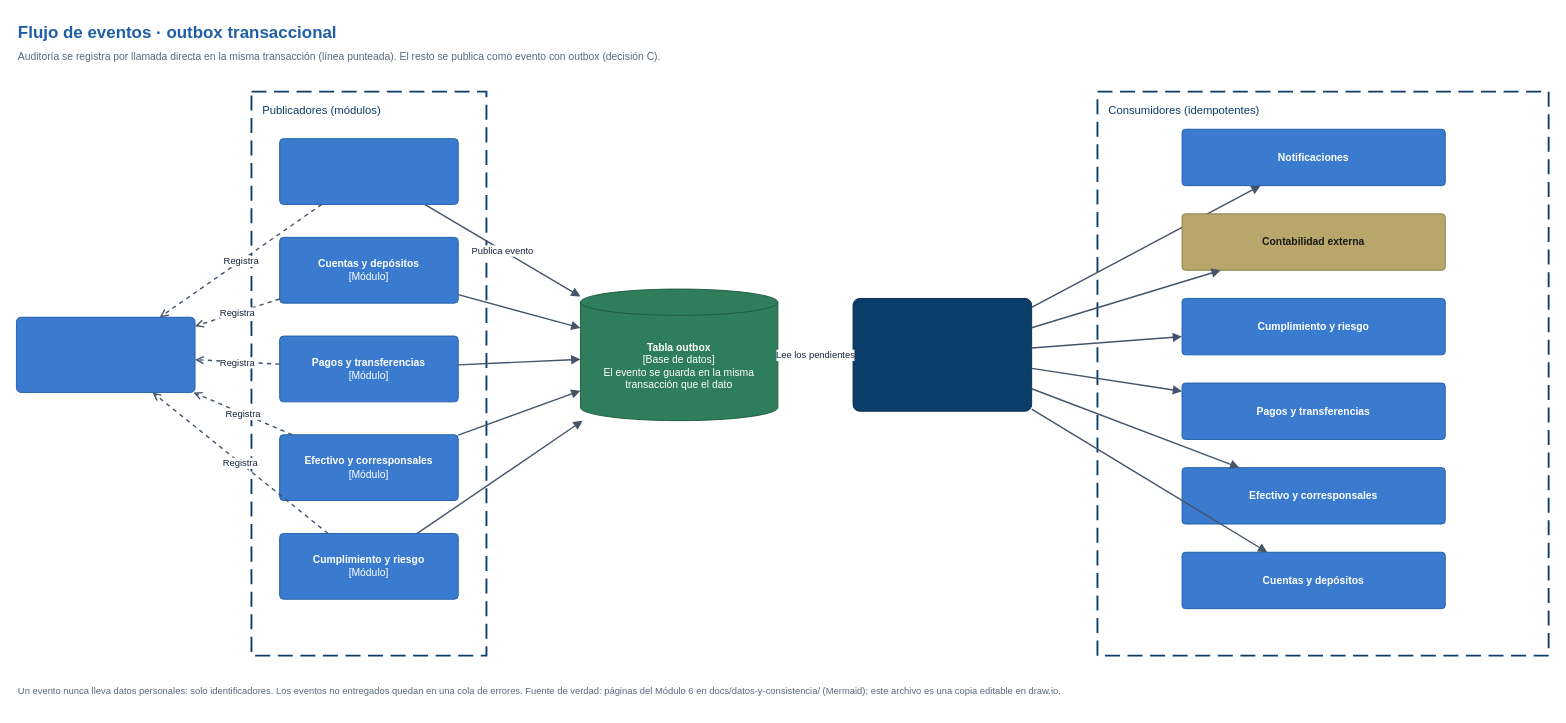
Image size: 1566x723. Some labels were removed from this diagram. Each missing label, with the centre of its shape:
Auditoría [Módulo]: the point at 105,354
Despachador [Proceso del monolito] Entrega y reintenta con espera creciente: the point at 942,354
Identidad y apertura [Módulo]: the point at 368,171
